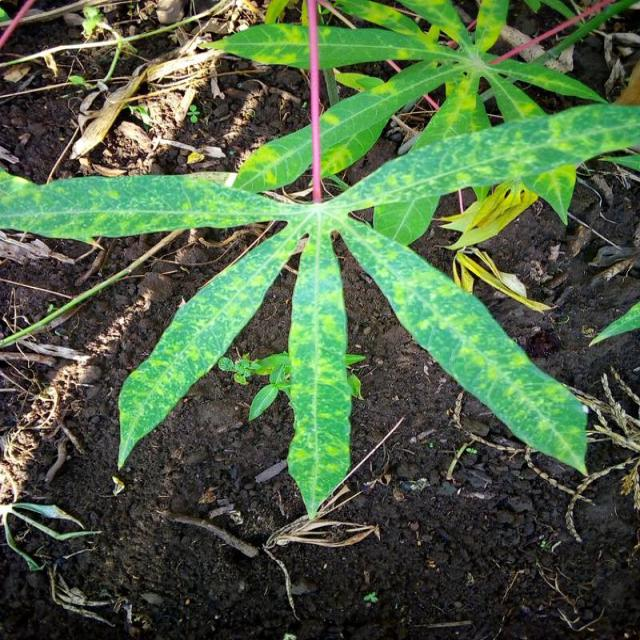cassava leaf: (1, 1, 638, 521)
